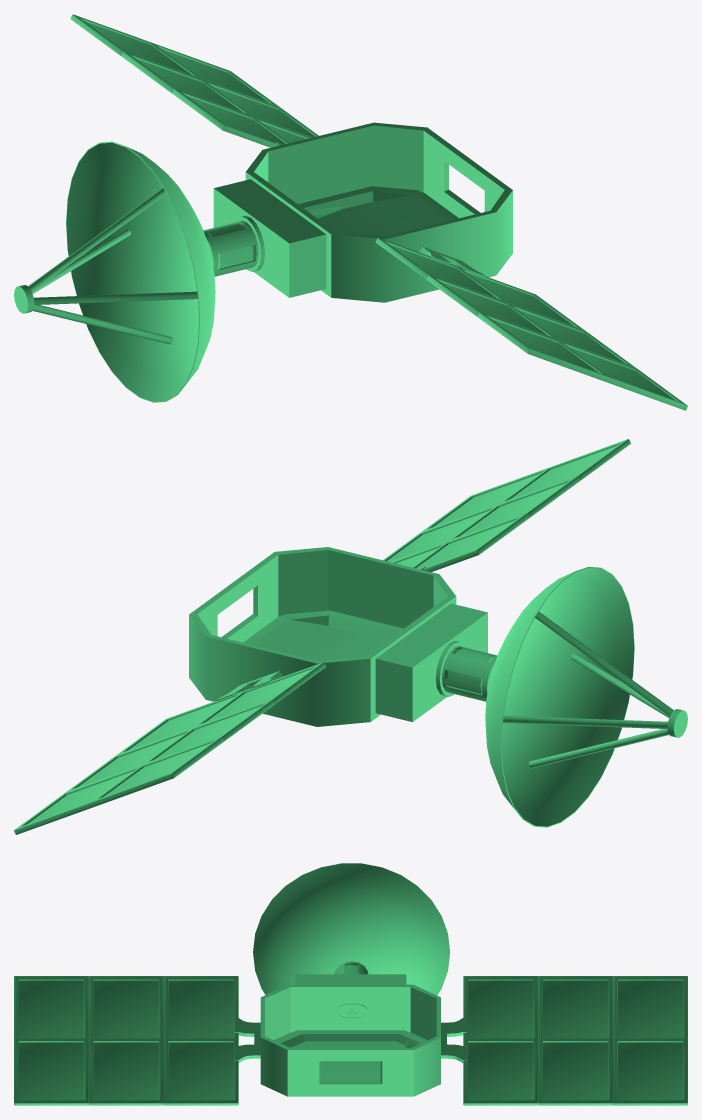
File: StartSatelite.obj
The picture shows the model from 3 angles, top to bottom: view 1: azimuth 30°, elevation 25°; view 2: azimuth 150°, elevation 25°; view 3: azimuth 270°, elevation 25°; orthographic projection. The views are drawn at different scales.
Visible parts, largest first — view 1: SatelitePlate; view 2: SatelitePlate; view 3: SatelitePlate.
Boxes of the visible parts, left/top/right/bottom form: SatelitePlate: left=14, top=14, right=687, bottom=410; SatelitePlate: left=14, top=439, right=687, bottom=834; SatelitePlate: left=14, top=863, right=687, bottom=1105.
Bounding box in the file's own units: 2966 × 1523 × 5233.
